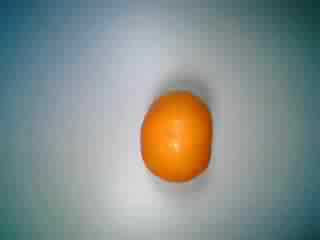orange: (120, 89, 216, 185)
